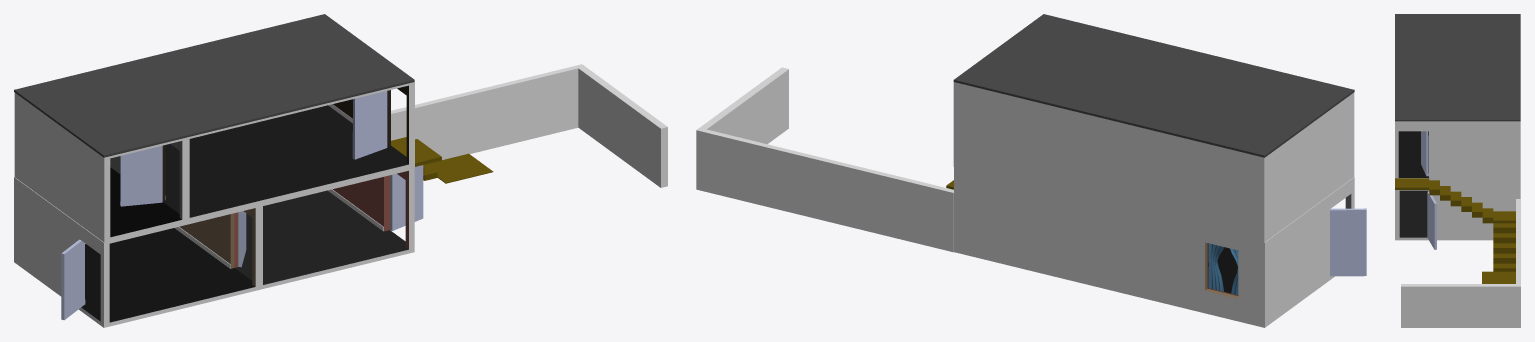
Rendered from House.fbx.
3 renders of one model, left to right at view 1: azimuth 30°, elevation 25°; view 2: azimuth 150°, elevation 25°; view 3: azimuth 270°, elevation 25°, orthographic. The views are drawn at different scales.
Parts seen in each view (by area): view 1: Roof_Top, polySurface9, polySurface3, Backyard_wall, polySurface10, polySurface2, pCube6, pCube1, pCube5, pCube2, polySurface12, polySurface13; view 2: Roof_Top, Backyard_wall, polySurface3, polySurface9, polySurface2, polySurface10, pCube5, polySurface8; view 3: Roof_Top, polySurface3, Backyard_wall, polySurface10, pCube2, polySurface12, polySurface13, pCube1, polySurface19, polySurface15, polySurface16, polySurface17 (+8 smaller).
Boxes of the visible parts, left/top/right/bottom form: Roof_Top: left=14, top=14, right=414, bottom=157; polySurface9: left=14, top=177, right=259, bottom=327; polySurface3: left=162, top=82, right=414, bottom=222; Backyard_wall: left=391, top=64, right=667, bottom=187; polySurface10: left=234, top=167, right=414, bottom=289; polySurface2: left=14, top=93, right=185, bottom=242; pCube6: left=120, top=145, right=162, bottom=206; pCube1: left=352, top=91, right=387, bottom=159; pCube5: left=61, top=239, right=84, bottom=320; pCube2: left=390, top=165, right=423, bottom=230; polySurface12: left=427, top=153, right=493, bottom=183; polySurface13: left=391, top=139, right=441, bottom=166; Roof_Top: left=953, top=14, right=1354, bottom=157; Backyard_wall: left=696, top=67, right=953, bottom=252; polySurface3: left=953, top=82, right=1182, bottom=222; polySurface9: left=1109, top=177, right=1354, bottom=327; polySurface2: left=1182, top=92, right=1354, bottom=242; polySurface10: left=954, top=167, right=1109, bottom=289; pCube5: left=1330, top=208, right=1366, bottom=276; polySurface8: left=1208, top=243, right=1224, bottom=291; Roof_Top: left=1395, top=14, right=1520, bottom=121; polySurface3: left=1395, top=121, right=1520, bottom=180; Backyard_wall: left=1401, top=199, right=1520, bottom=327; polySurface10: left=1395, top=181, right=1520, bottom=240; pCube2: left=1427, top=191, right=1436, bottom=249; polySurface12: left=1482, top=271, right=1515, bottom=283; polySurface13: left=1395, top=178, right=1429, bottom=189; pCube1: left=1421, top=131, right=1428, bottom=176; polySurface19: left=1493, top=211, right=1515, bottom=223; polySurface15: left=1493, top=253, right=1515, bottom=263; polySurface16: left=1493, top=243, right=1515, bottom=253; polySurface17: left=1493, top=233, right=1515, bottom=243.
Bounding box in the file's own units: 25.22 × 6.98 × 6.6.
